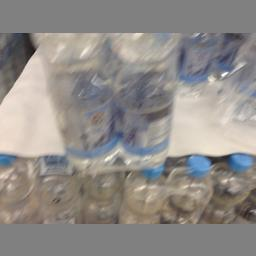water: (36, 33, 116, 170), (110, 34, 174, 170)
